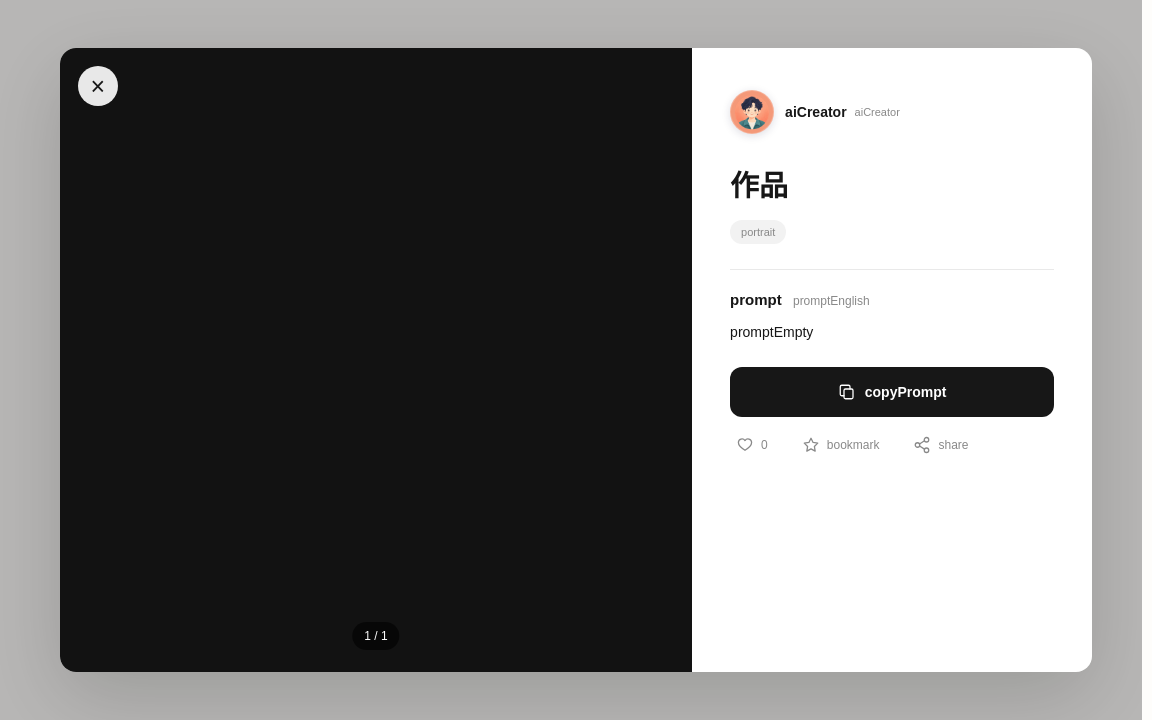
Scenario: copies the current URL even when native sharing is supported
This screenshot has width=1152, height=720.
Click the button "share" at coordinates (941, 445), box [908,435,974,455]
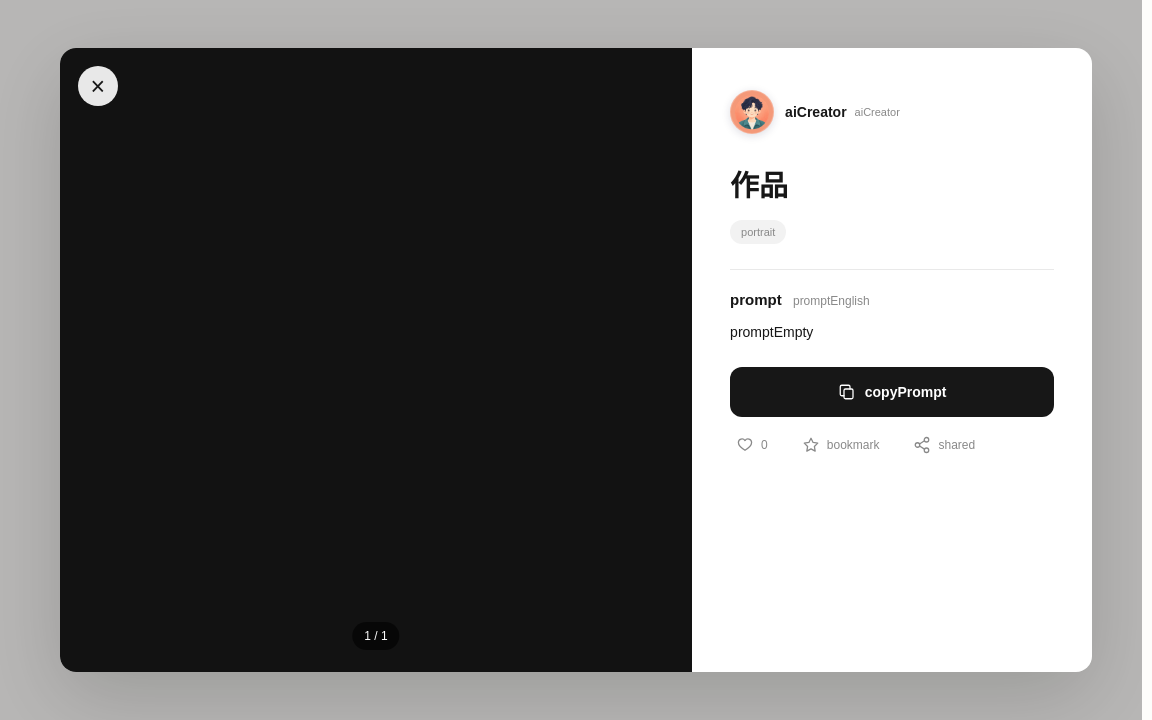
Now the button "shared" is shown, box [908,435,981,455]
